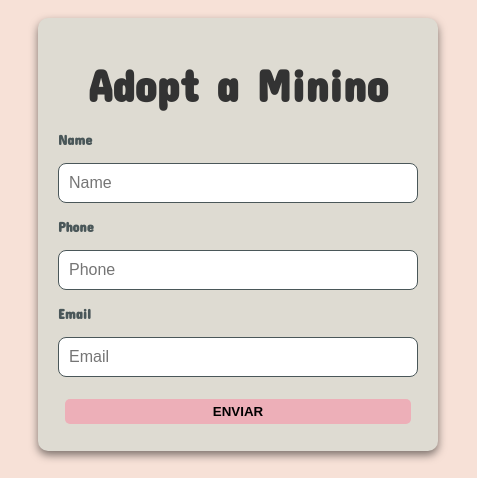
Test: Form component › muestra popup tras envío válido
Type "Saray" into the field labelled "Name". click: (238, 183)
box: [58,163,418,203]
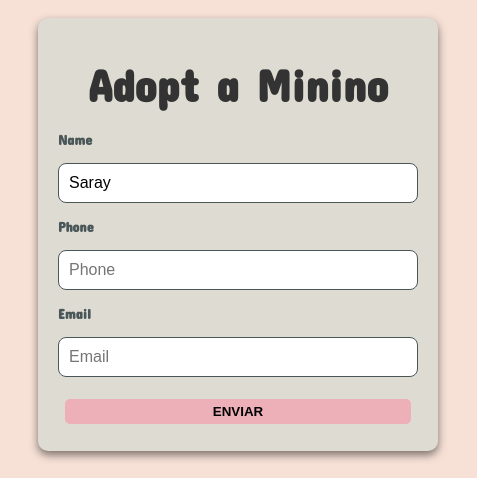
Type "123456789" into the field labelled "Phone". click: (238, 270)
box: [58,250,418,290]
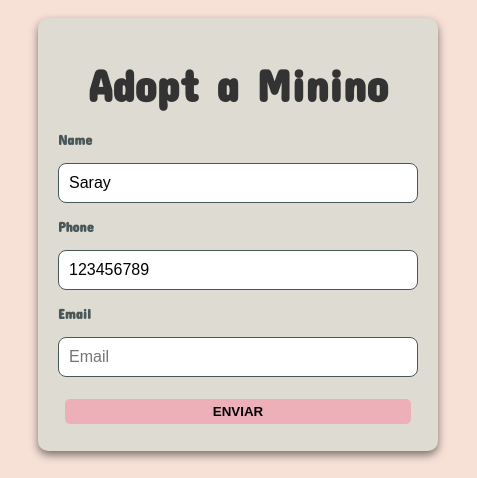
Type "saray@example.com" into the field labelled "Email". click: (238, 357)
box: [58,337,418,377]
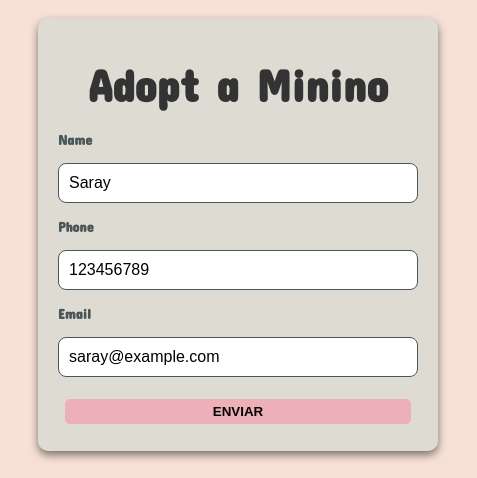
Click the button "ENVIAR". click: (238, 412)
box: [65,399,411,424]
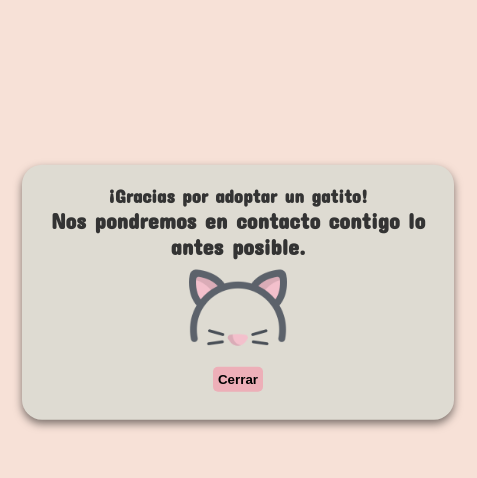
Expected: the heading "¡Gracias por adoptar un gatito!" is shown, [108,185,368,207]
